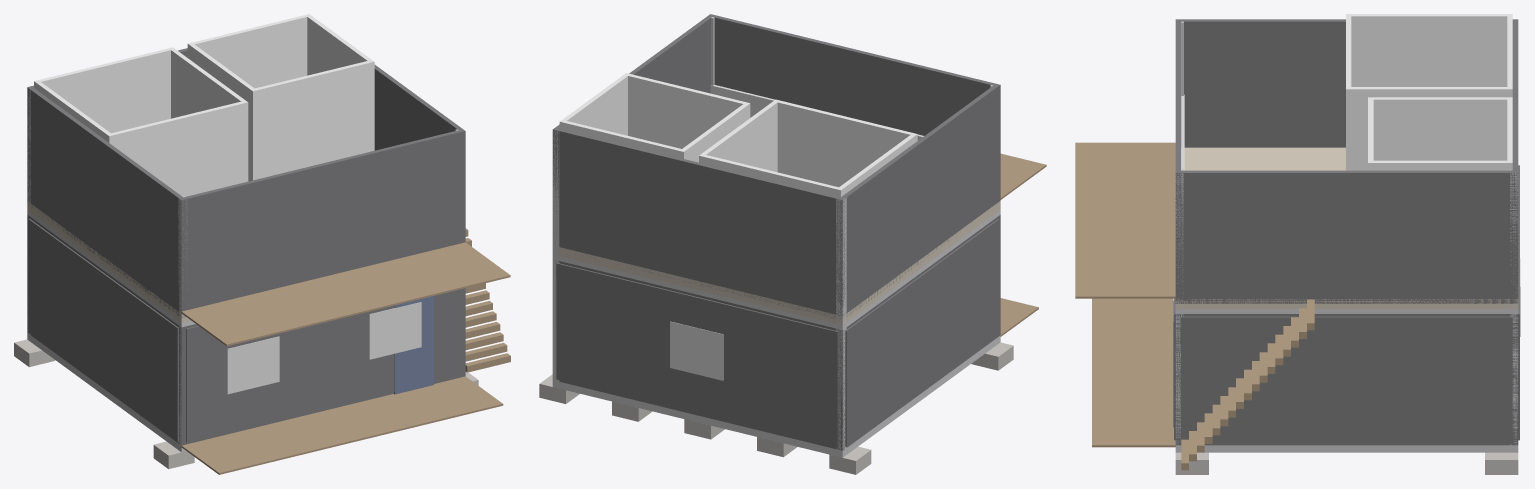
File: Duplex-20-Base-CharcoalSilver-LOD0.glb
3 views of the same model, side by side, from view 1: azimuth 30°, elevation 25°; view 2: azimuth 150°, elevation 25°; view 3: azimuth 270°, elevation 25° (orthographic). The views are drawn at different scales.
Parts seen in each view (by area): view 1: ExteriorShellUpper, ExteriorPanelsStandard, StudyUpper, BedroomUpper, BalconyUpper, BalconyGround, WindowsStandard, StaircaseExternal, ExteriorShell, EntryDoor, FoundationBlocks, FloorUpper (+3 smaller); view 2: ExteriorShellUpper, ExteriorPanelsStandard, BedroomUpper, StudyUpper, FloorUpper, VerticalStructure, FoundationBlocks, BaseFrame, ExteriorShell, WindowsStandard, TopFrame, BalconyUpper (+2 smaller); view 3: ExteriorShellUpper, ExteriorPanelsStandard, BalconyUpper, BedroomUpper, BalconyGround, StudyUpper, FloorUpper, StaircaseExternal, ExteriorShell, BaseFrame, VerticalStructure, TopFrame (+1 smaller).
Part boxes in pixels (x1,y1,x2,y2): ExteriorShellUpper: (27, 48, 465, 317); ExteriorPanelsStandard: (28, 218, 461, 442); StudyUpper: (187, 14, 374, 181); BedroomUpper: (34, 47, 248, 196); BalconyUpper: (181, 242, 510, 346); BalconyGround: (181, 376, 503, 474); WindowsStandard: (227, 302, 421, 394); StaircaseExternal: (465, 228, 510, 372); ExteriorShell: (27, 215, 465, 445); EntryDoor: (394, 296, 433, 394); FoundationBlocks: (14, 339, 478, 469); FloorUpper: (27, 201, 190, 322); ExteriorShellUpper: (552, 14, 1000, 318); ExteriorPanelsStandard: (556, 219, 999, 447); BedroomUpper: (699, 99, 917, 197); StudyUpper: (559, 73, 750, 162); FloorUpper: (558, 201, 1000, 325); VerticalStructure: (552, 17, 998, 449); FoundationBlocks: (539, 342, 1013, 474); BaseFrame: (552, 335, 1000, 457); ExteriorShell: (556, 215, 1000, 450); WindowsStandard: (670, 321, 723, 380); TopFrame: (555, 210, 1000, 329); BalconyUpper: (1000, 153, 1046, 199); ExteriorShellUpper: (1175, 19, 1518, 303); ExteriorPanelsStandard: (1174, 165, 1519, 443); BalconyUpper: (1075, 142, 1175, 298); BedroomUpper: (1346, 14, 1512, 170); BalconyGround: (1092, 298, 1175, 447); StudyUpper: (1368, 97, 1512, 170); FloorUpper: (1175, 147, 1518, 308); StaircaseExternal: (1181, 299, 1314, 470); ExteriorShell: (1175, 314, 1518, 445); BaseFrame: (1175, 445, 1518, 452); VerticalStructure: (1175, 21, 1518, 445); TopFrame: (1175, 309, 1518, 313).
Bounding box in the file's own units: 7.94 × 6 × 8.
